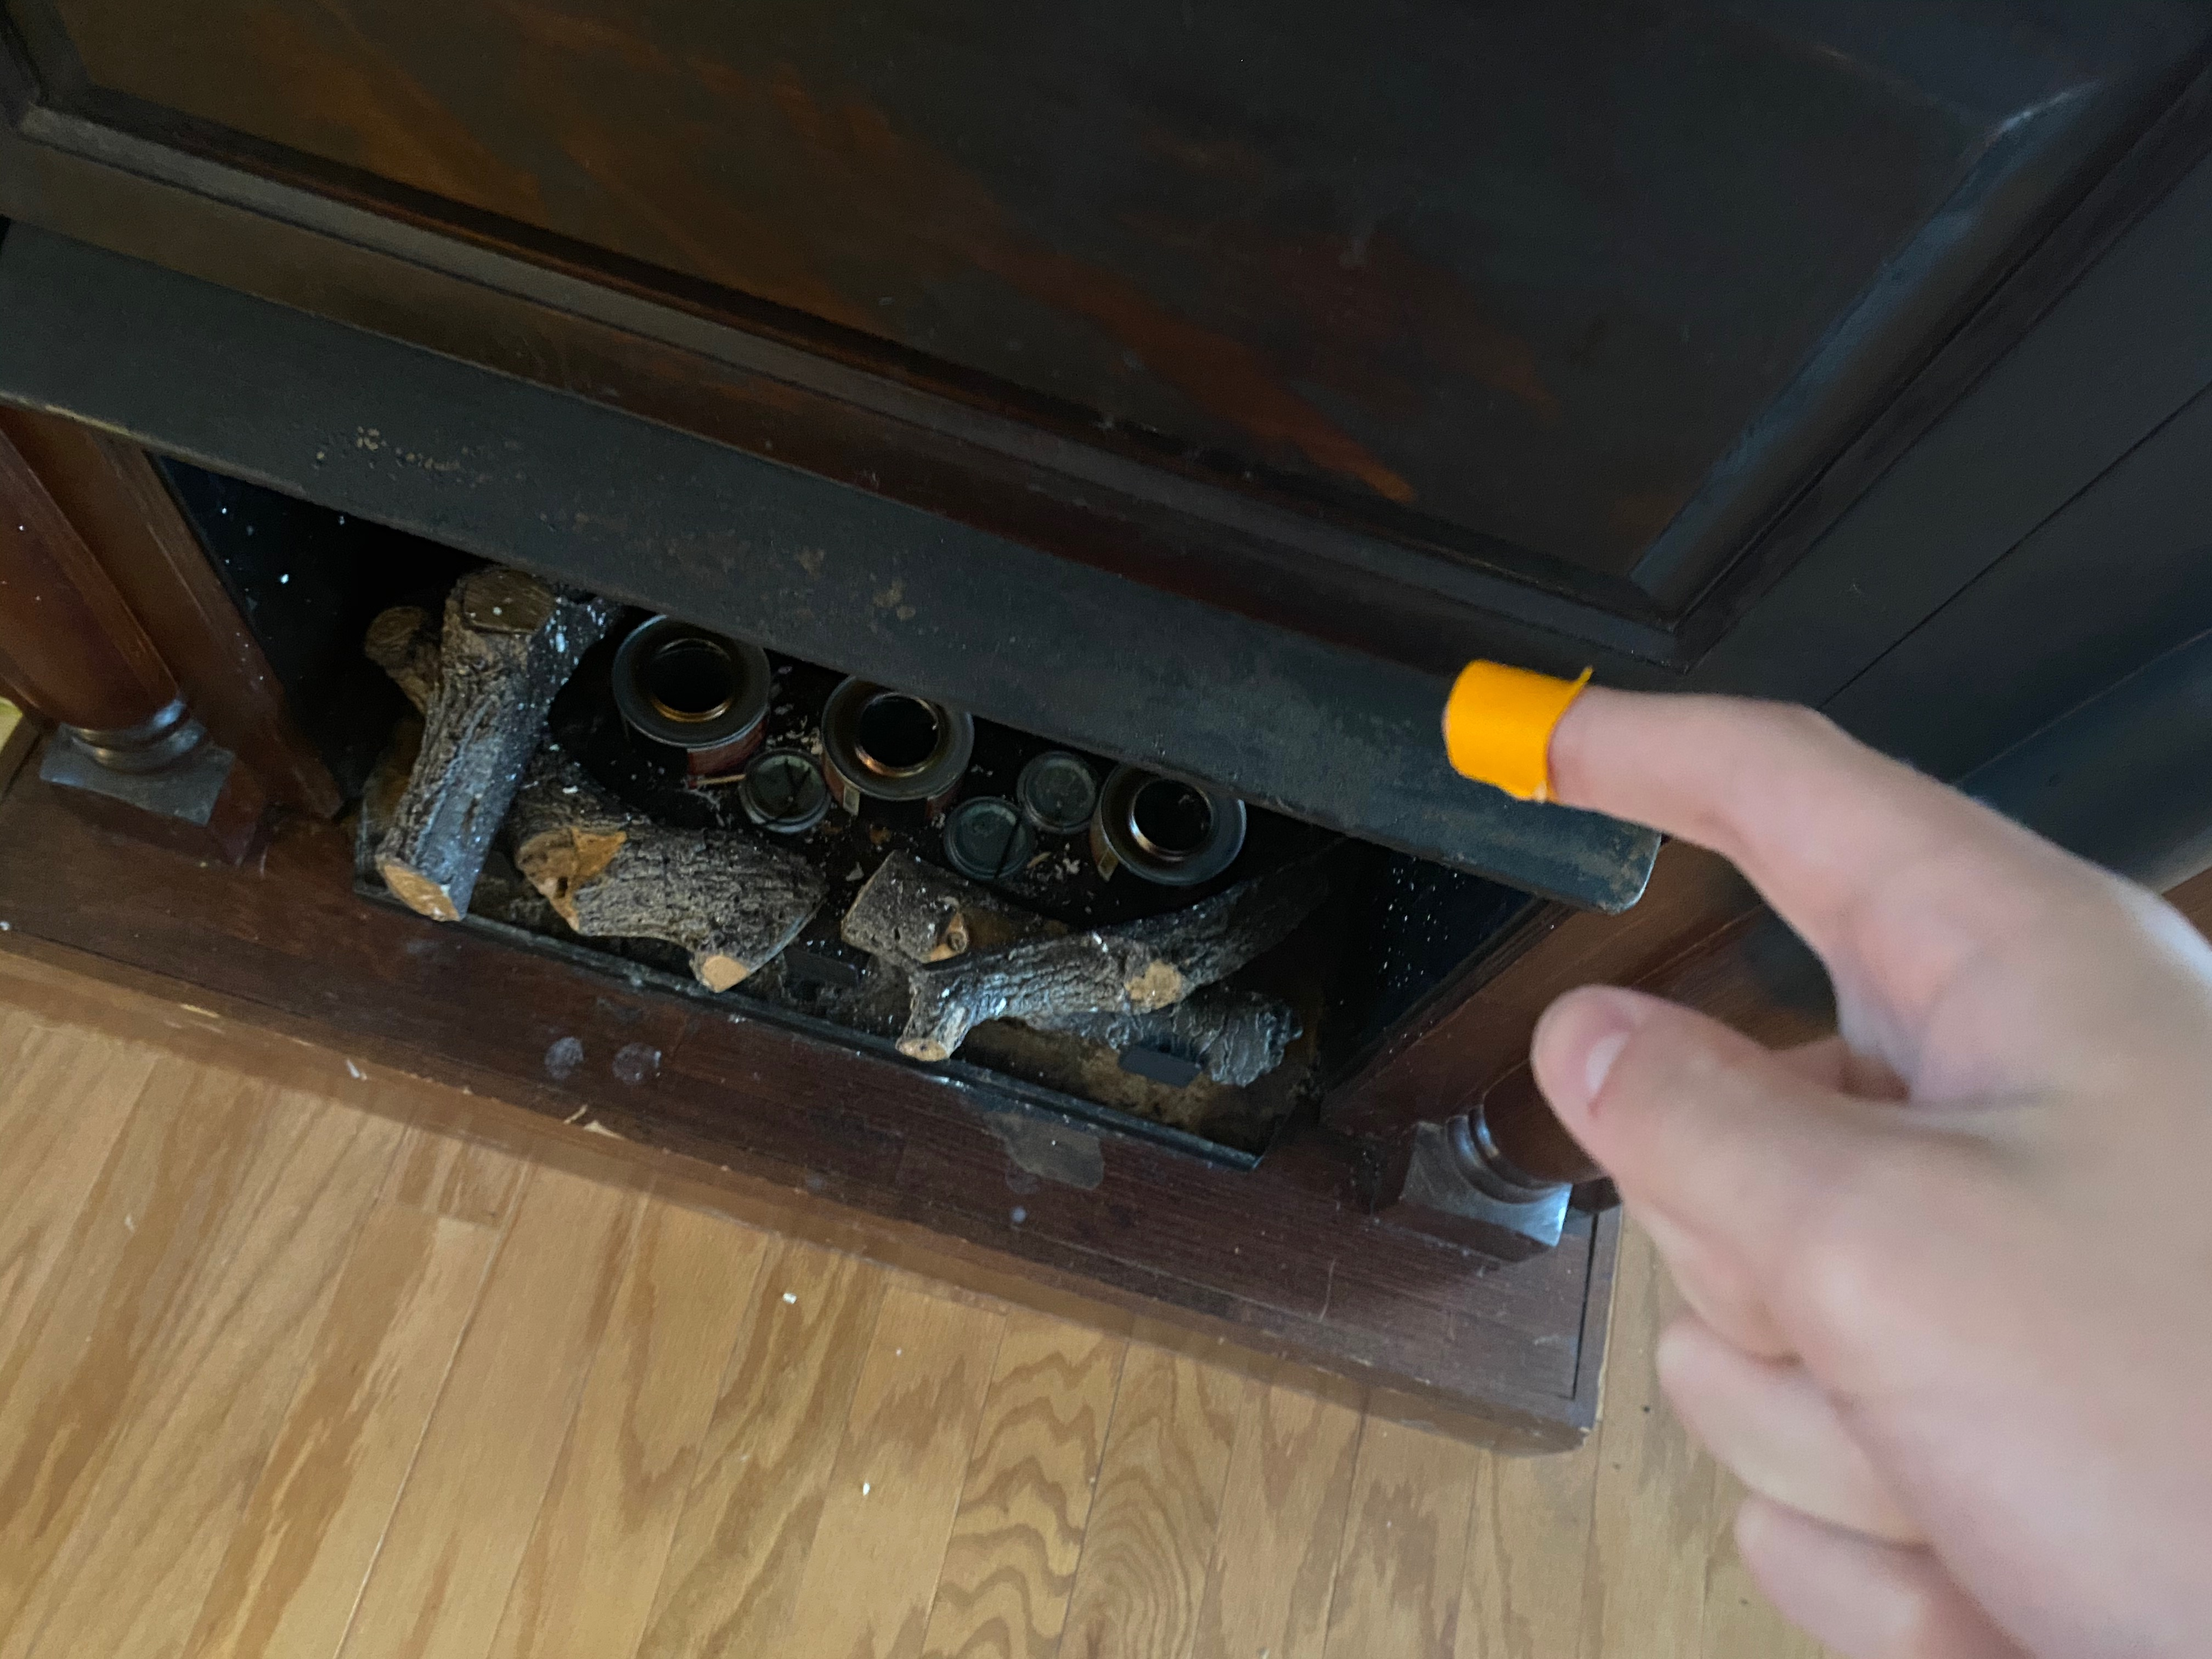fingertip: (1437, 647, 1599, 836)
